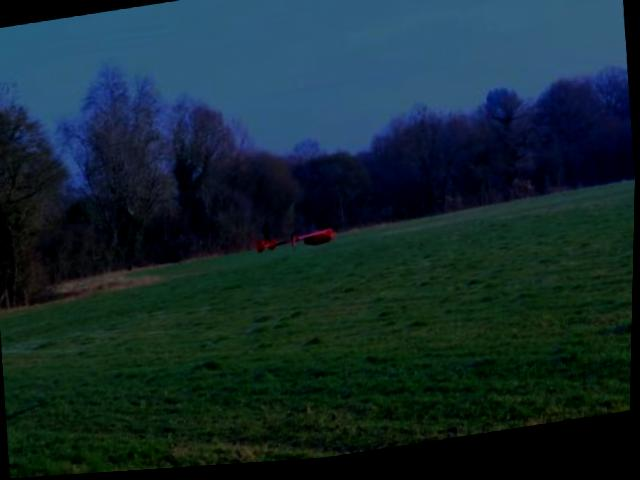uav: (256, 227, 338, 260)
